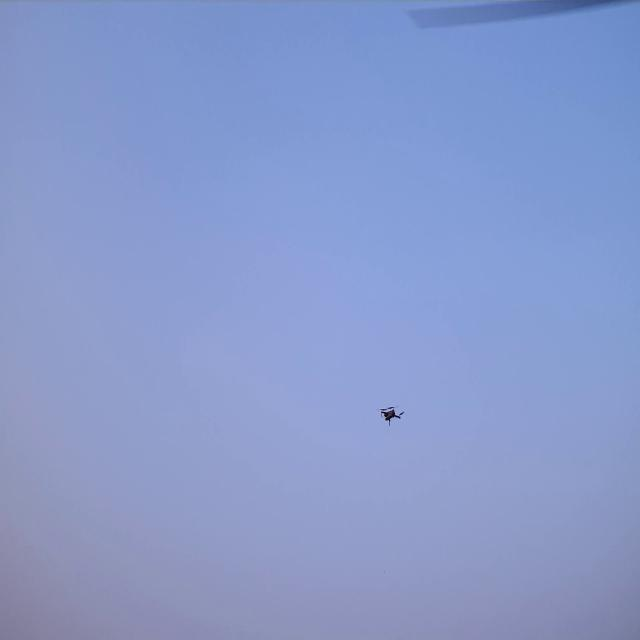UAV: (381, 407, 402, 425)
